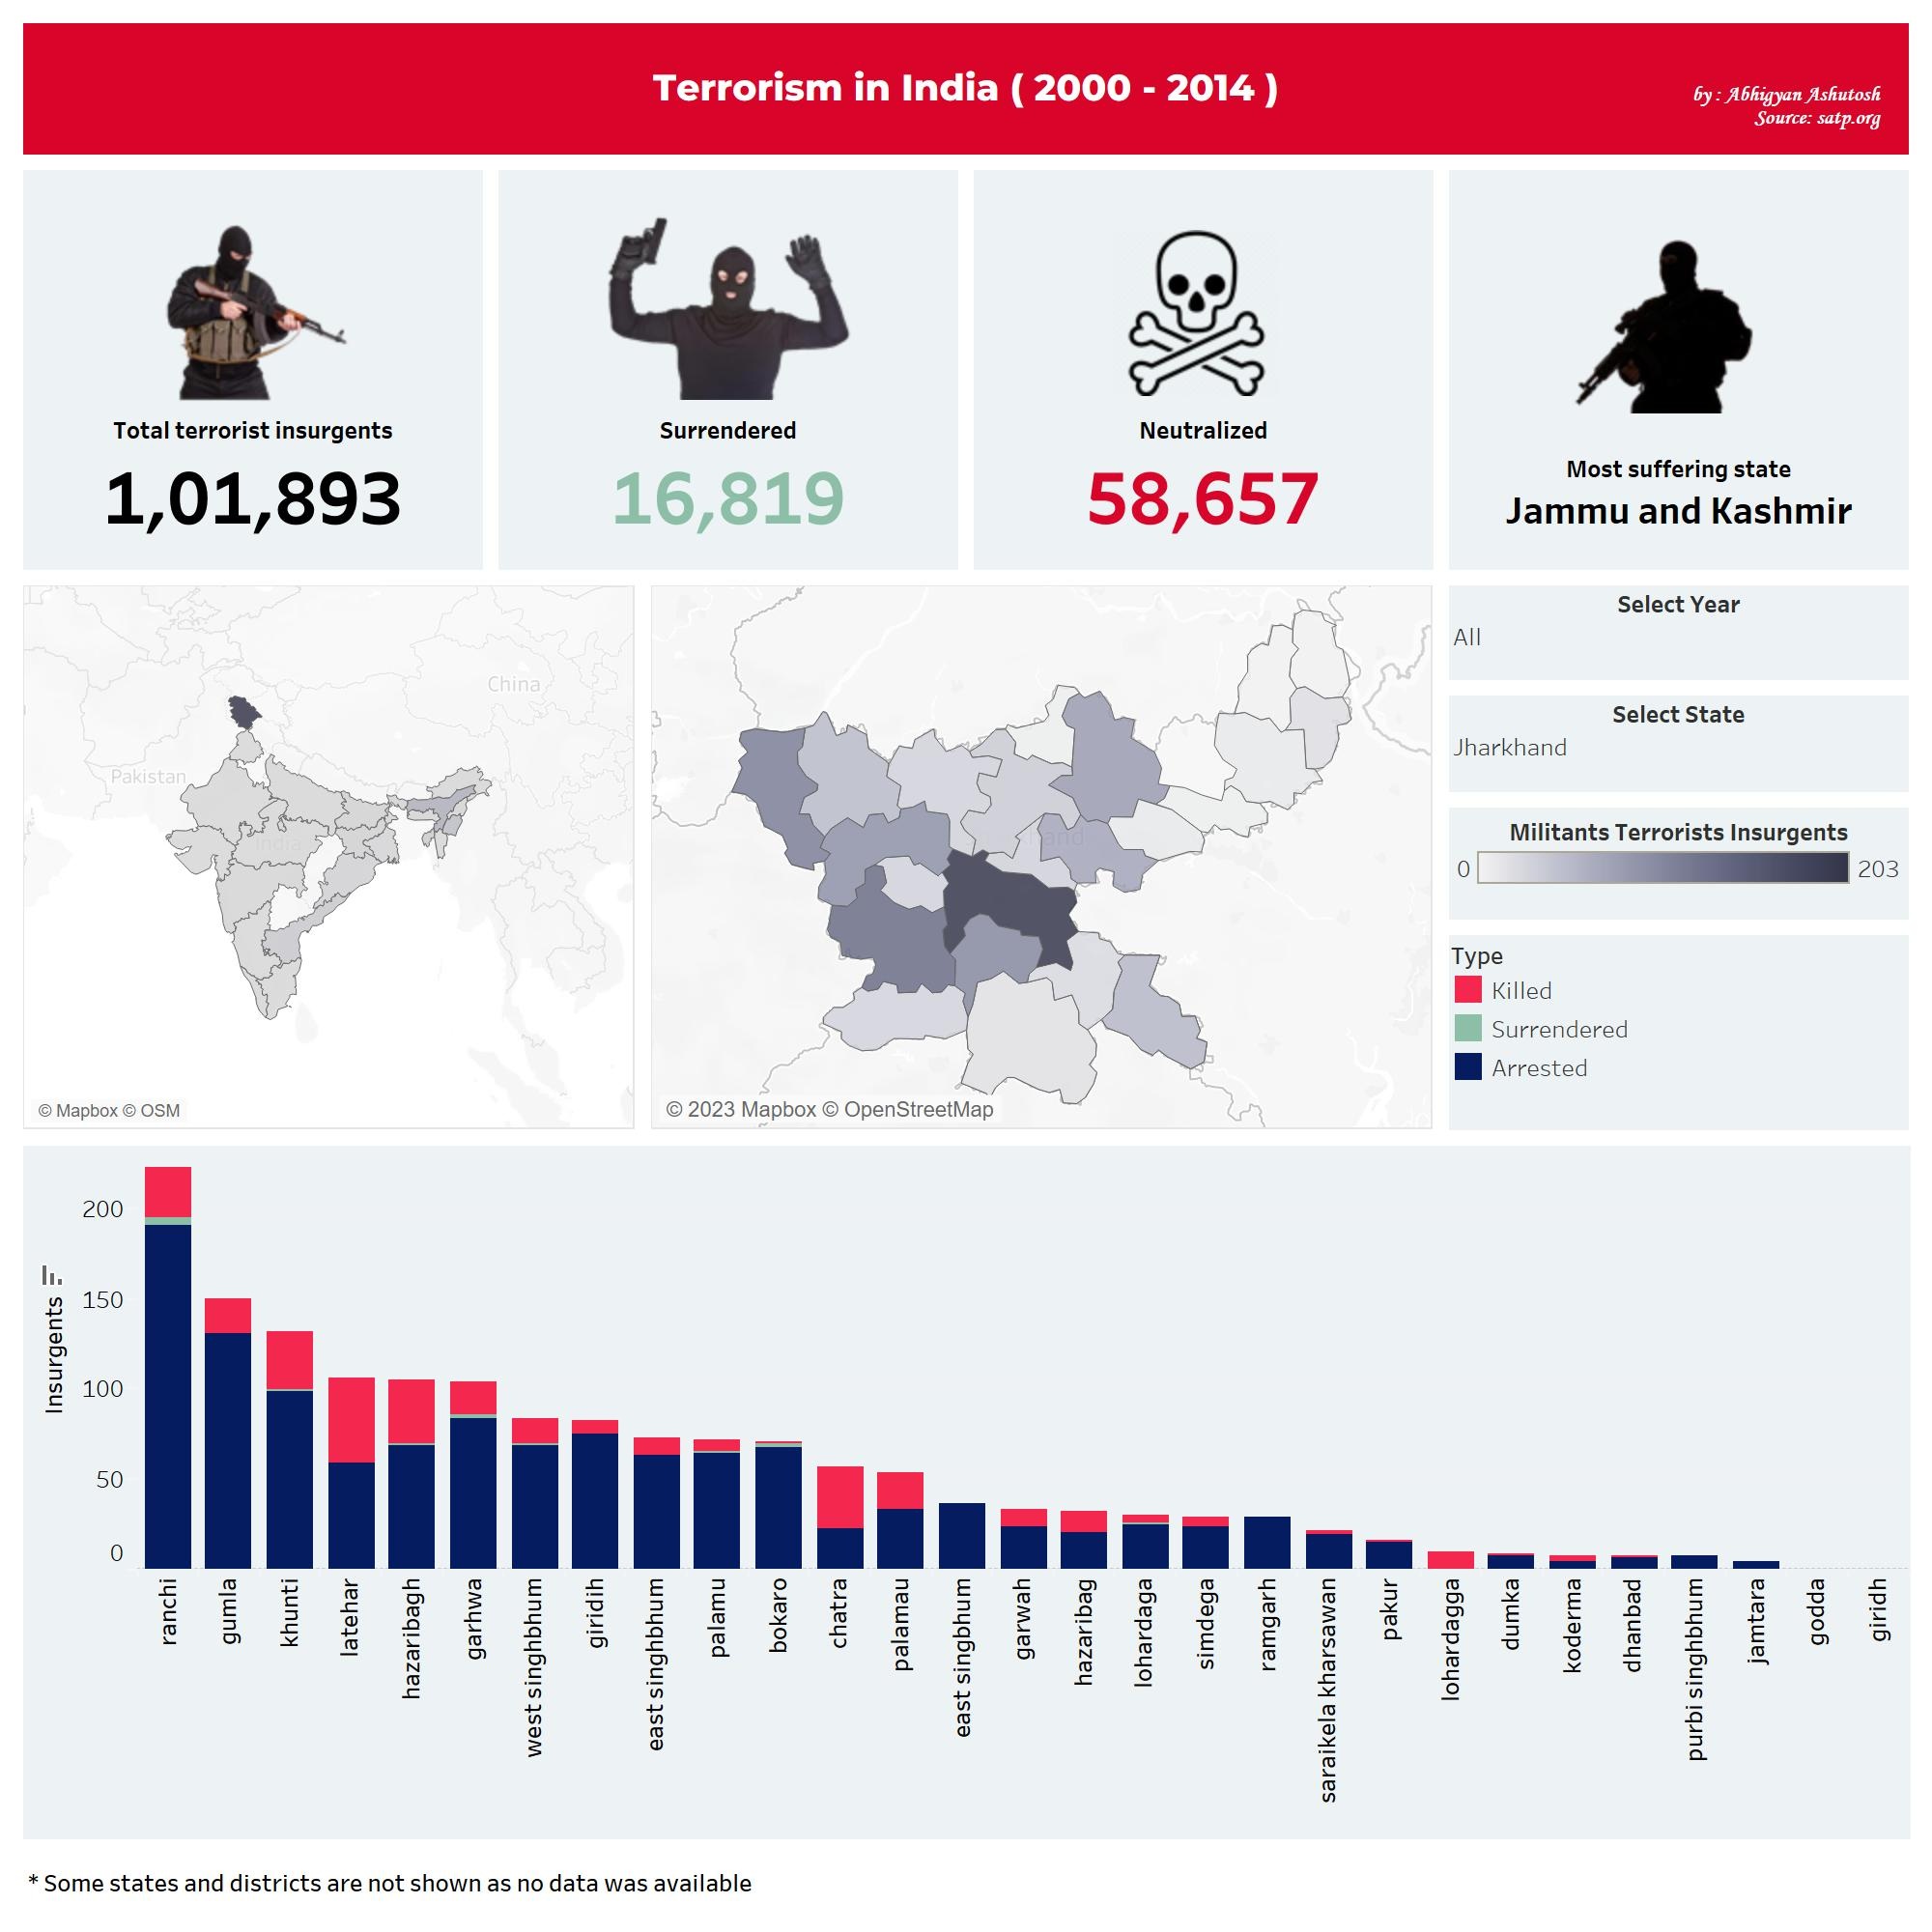

The page's visual inventory and layout, read from the dashboard file:
{"tool":"tableau","page":{"name":"Dashboard 1","canvas":[1000,1000],"ordinal":0},"visuals":[{"type":"text","box":[8,8,984,76]},{"type":"text","box":[873,41,103,30]},{"type":"text","box":[8,84,246,215.4]},{"type":"text","box":[254,84,246,215.4]},{"type":"text","box":[500,84,246,215.4]},{"type":"text","box":[746,84,246,215.4]},{"type":"image","param":"C:/Users/user/Downloads/bandit-surrendering-19207984-transformed_prev_ui.png","box":[306,107,147,100]},{"type":"image","param":"C:/Users/user/Downloads/terrorist-black-uniform-mask-kalashnikov-isolated-white-","box":[64,113,143,103]},{"type":"image","param":"C:/Users/user/Downloads/1133623.png","box":[576,119,98,86]},{"type":"image","param":"C:/Users/user/Downloads/image_prev_ui.png","box":[754,124,174,146]},{"type":"worksheet","title":"India_map","mark":"Automatic","box":[8,299.4,325,289.6]},{"type":"worksheet","title":"District","mark":"Automatic","box":[333,299.4,413,289.6]},{"type":"filter","title":"India_map","param":"[federated.0zx672i0jw5llk18tr5mc045w2j7].[yr:report_date:ok]","box":[746,299.4,246,56.6]},{"type":"filter","title":"District","param":"[federated.0zx672i0jw5llk18tr5mc045w2j7].[none:state_full:nk]","box":[746,356,246,58]},{"type":"legend","title":"District","param":"[federated.0zx672i0jw5llk18tr5mc045w2j7].[sum:militants_terrorists_insurgents:qk","box":[746,414,246,66]},{"type":"legend","title":"Graph_district","param":"[federated.0zx672i0jw5llk18tr5mc045w2j7].[none:verb:nk]","box":[746,480,246,109]},{"type":"worksheet","title":"Graph_district","mark":"Automatic","rows":["militants_terrorists_insurgents"],"cols":["state_full","district"],"box":[8,589,984,367.1]},{"type":"text","box":[8,956,984,36]}]}

Visuals, with their boxes in screenshot pixels (x1, y1, x2, y2), scaled from the page's 1000x1000 canvas onto the 1932x1932 screenshot:
text: select_region(15, 15, 1917, 162)
text: select_region(1687, 79, 1886, 137)
text: select_region(15, 162, 491, 579)
text: select_region(491, 162, 966, 579)
text: select_region(966, 162, 1441, 579)
text: select_region(1441, 162, 1917, 579)
image: select_region(591, 207, 875, 400)
image: select_region(124, 218, 400, 417)
image: select_region(1113, 230, 1302, 396)
image: select_region(1457, 240, 1793, 522)
"India_map" worksheet: select_region(15, 579, 643, 1138)
"District" worksheet: select_region(643, 579, 1441, 1138)
"India_map" filter: select_region(1441, 579, 1917, 688)
"District" filter: select_region(1441, 688, 1917, 800)
"District" legend: select_region(1441, 800, 1917, 927)
"Graph_district" legend: select_region(1441, 927, 1917, 1138)
"Graph_district" worksheet: select_region(15, 1138, 1917, 1847)
text: select_region(15, 1847, 1917, 1917)
